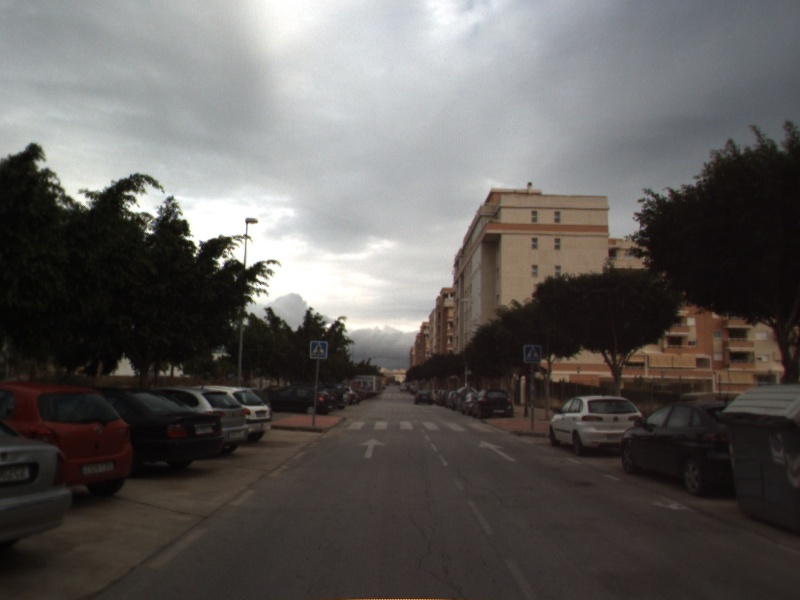STRAIGHT: (476, 438, 518, 463), (358, 436, 387, 460)
